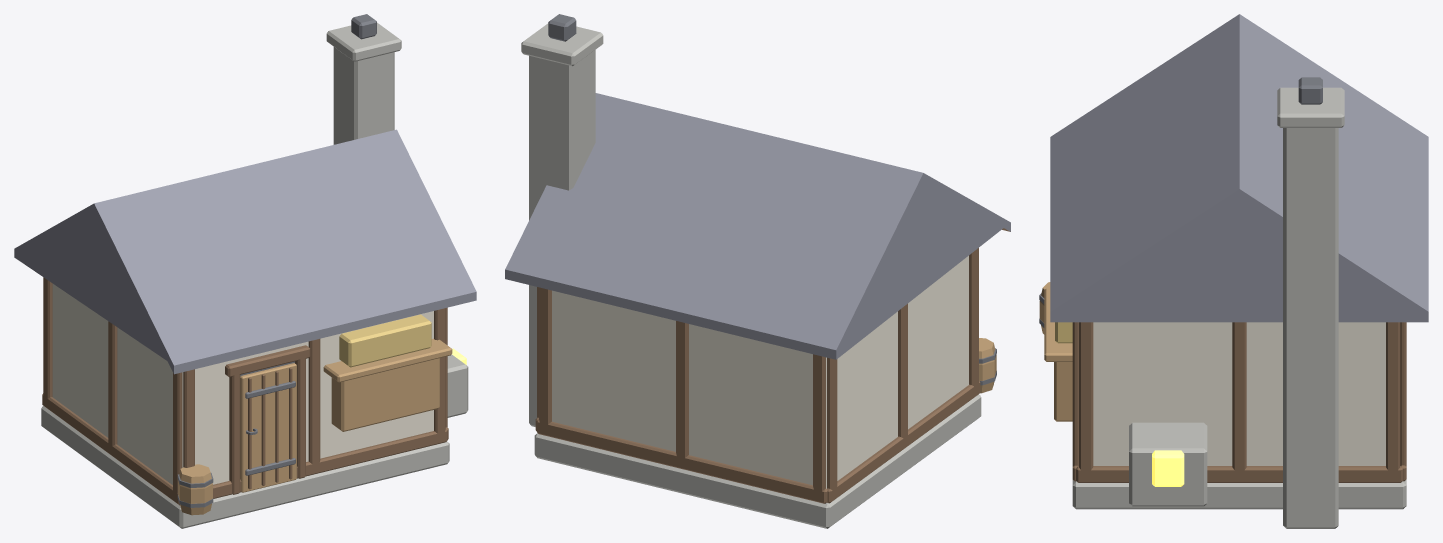
File: cooks-kitchen.glb
3 views of the same model, side by side, from view 1: azimuth 30°, elevation 25°; view 2: azimuth 150°, elevation 25°; view 3: azimuth 270°, elevation 25° (orthographic). The views are drawn at different scales.
Visible parts, largest first — view 1: cooks-kitchen, door/wood, door/timber, door/iron; view 2: cooks-kitchen; view 3: cooks-kitchen.
Part boxes in pixels (x1=…): cooks-kitchen: x1=14, y1=14, x2=476, y2=528; door/wood: x1=240, y1=363, x2=296, y2=492; door/timber: x1=248, y1=367, x2=292, y2=489; door/iron: x1=245, y1=381, x2=295, y2=475; cooks-kitchen: x1=505, y1=14, x2=1010, y2=528; cooks-kitchen: x1=1039, y1=14, x2=1428, y2=528.
Size of the model in its own units: 6.45 by 6.76 by 5.46.
